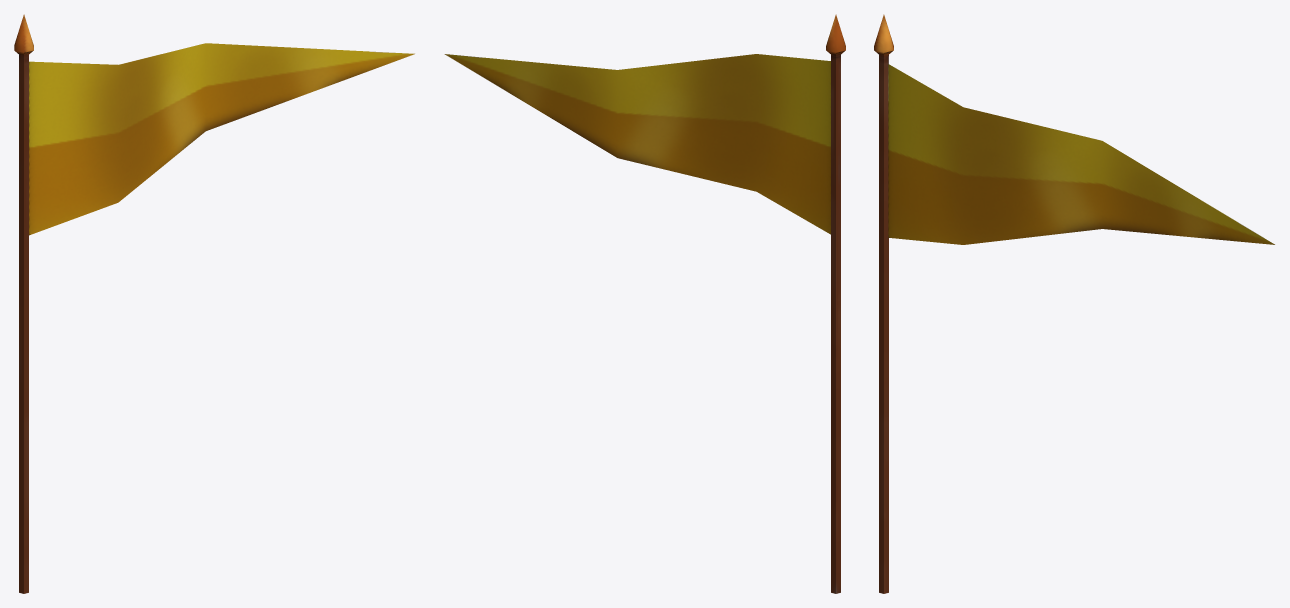
3 renders of one model, left to right at view 1: azimuth 30°, elevation 25°; view 2: azimuth 150°, elevation 25°; view 3: azimuth 330°, elevation 25°, orthographic.
Parts seen in each view (by area): view 1: Obj_banderin; view 2: Obj_banderin; view 3: Obj_banderin.
Part boxes in pixels (box(x1,y1,x2,y2)): Obj_banderin: box(14, 14, 414, 593); Obj_banderin: box(444, 14, 845, 593); Obj_banderin: box(874, 14, 1274, 593).
Size of the model in its own units: 1.91 by 2.62 by 0.2125.
